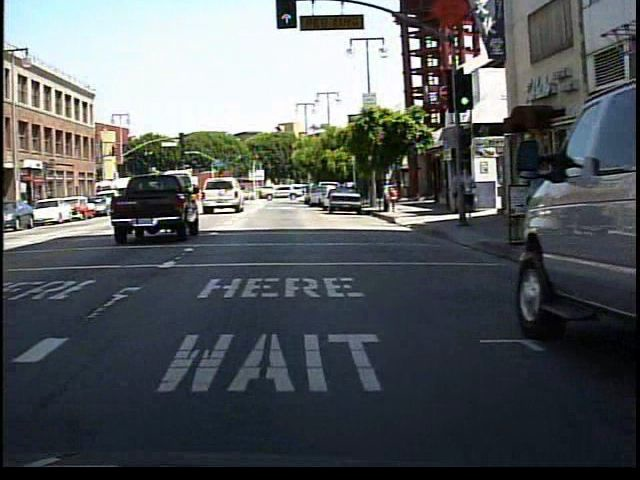person: (455, 161, 478, 227)
